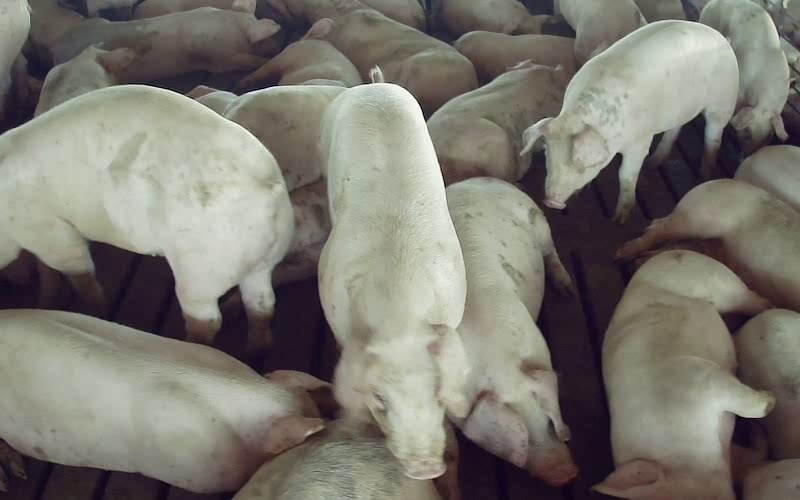pig: (319, 67, 466, 478), (594, 250, 774, 499), (523, 21, 738, 222), (447, 177, 576, 484), (615, 179, 799, 310), (306, 0, 478, 117), (51, 0, 282, 82), (427, 62, 568, 184), (699, 0, 788, 156), (240, 18, 361, 86), (34, 46, 134, 116), (454, 31, 575, 83)
